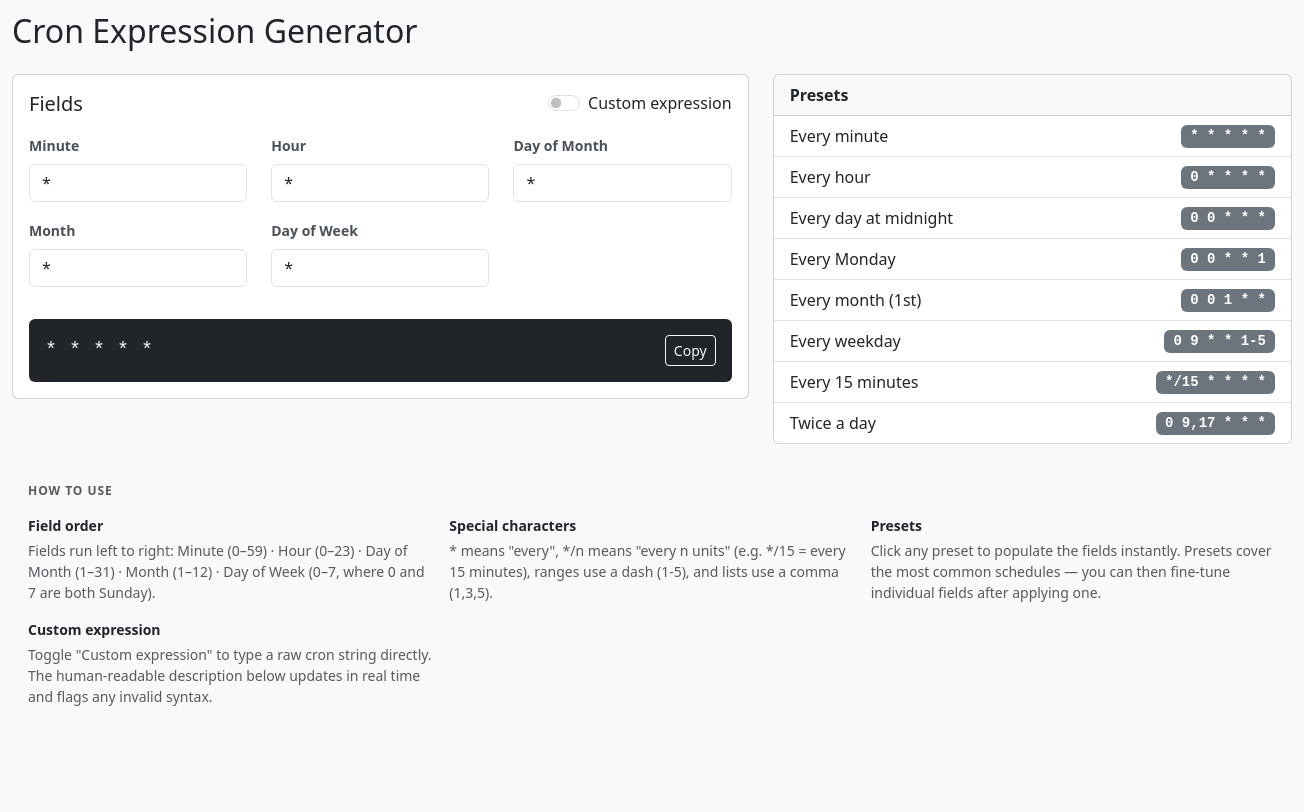
Test case: CronGenerator › updates expression when field changes
The width and height of the screenshot is (1304, 812).
Replace the text in the field named "Cron Minute" with "30": (138, 183) [29, 164, 247, 202]
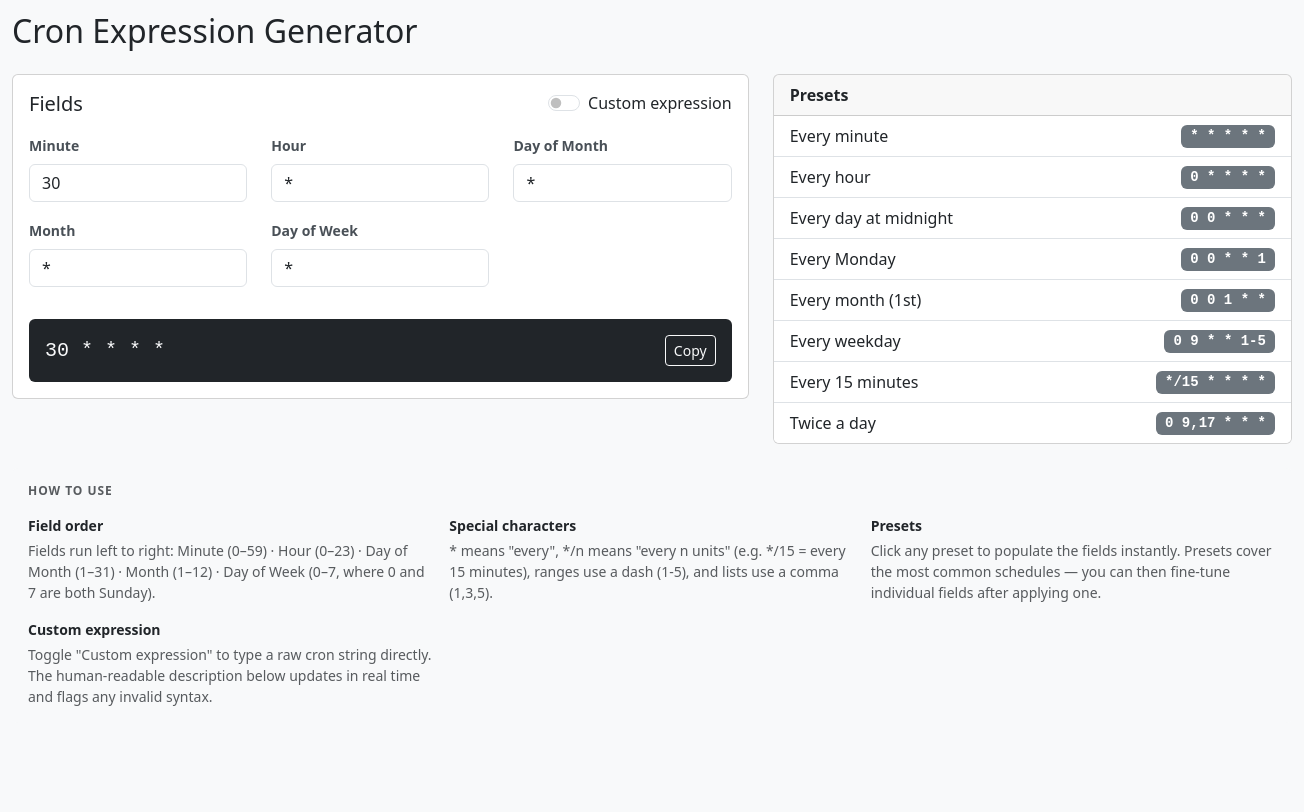
Check: the text "30 * * * *" is shown, box [45, 336, 165, 366]
